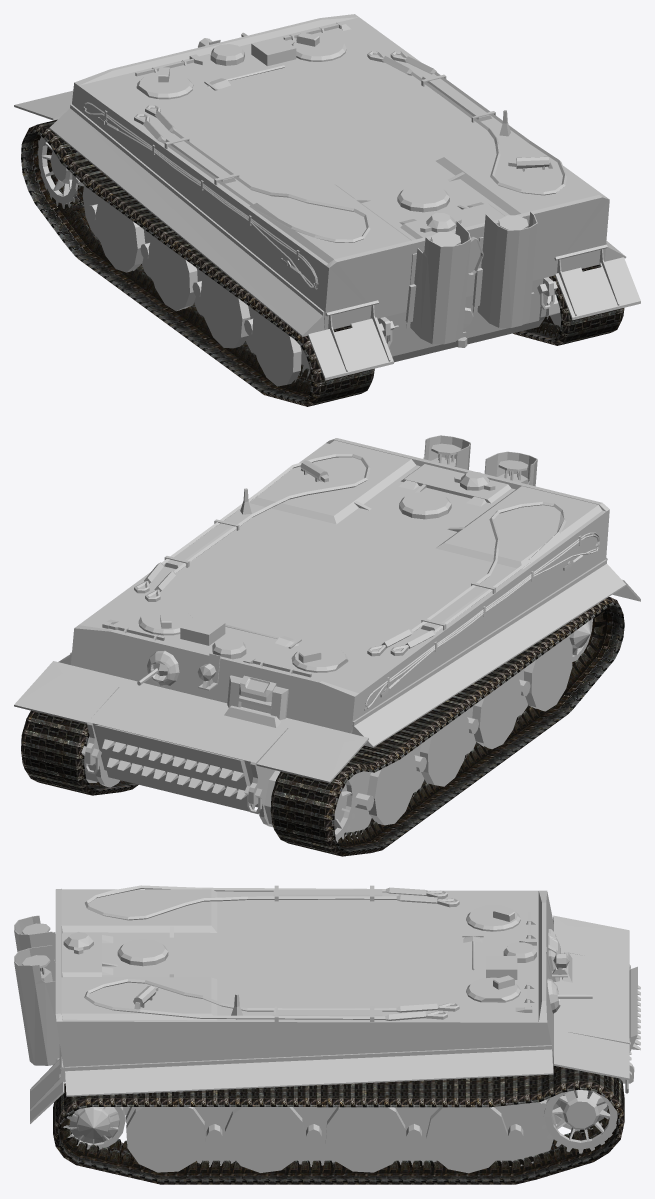
The model's file is hull.obj.
The picture shows the model from 3 angles, top to bottom: view 1: azimuth 30°, elevation 25°; view 2: azimuth 150°, elevation 25°; view 3: azimuth 270°, elevation 25°; orthographic projection. The views are drawn at different scales.
Visible parts, largest first — view 1: Hull_Object_1.001, Track_Left_Object_1, Wheels_Left_Object_3, Track_Right_Object_2; view 2: Hull_Object_1.001, Track_Left_Object_1, Wheels_Left_Object_3, Track_Right_Object_2; view 3: Hull_Object_1.001, Wheels_Right_Object_4, Track_Right_Object_2.
Part boxes in pixels (<box>): Hull_Object_1.001: <box>14,14,640,380</box>; Track_Left_Object_1: <box>21,119,374,406</box>; Wheels_Left_Object_3: <box>37,136,310,386</box>; Track_Right_Object_2: <box>513,264,624,345</box>; Hull_Object_1.001: <box>14,435,640,827</box>; Track_Left_Object_1: <box>270,597,624,856</box>; Wheels_Left_Object_3: <box>334,618,593,842</box>; Track_Right_Object_2: <box>21,710,138,795</box>; Hull_Object_1.001: <box>14,885,640,1123</box>; Wheels_Right_Object_4: <box>63,1089,617,1173</box>; Track_Right_Object_2: <box>53,1066,624,1184</box>.
Size of the model in its own units: 1.85 by 1.02 by 3.22.
